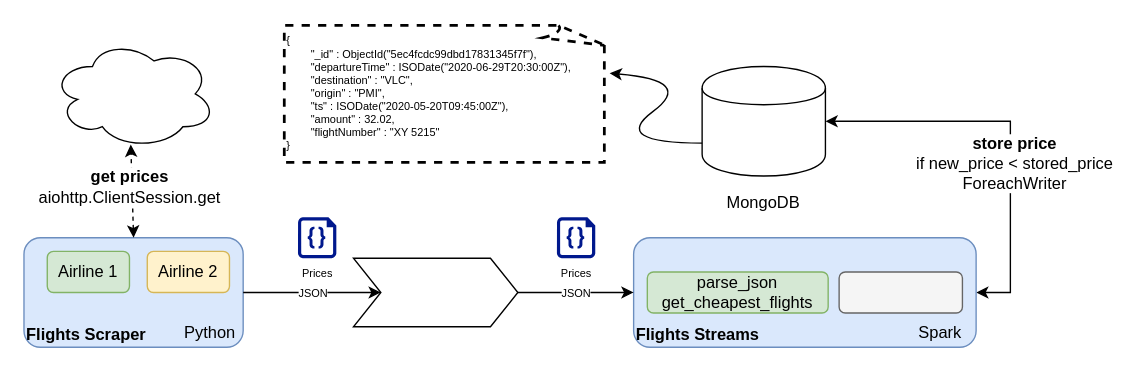
This 1136x371 diagram has some shape labels left out. Here are the shapes that lost their labels. From the top down, the centre of each, then its label:
point (133, 93): airlines APis
point (763, 120): db: flights col: prices
point (435, 292): Kafka topic: flights
point (900, 292): ForeachWriter
